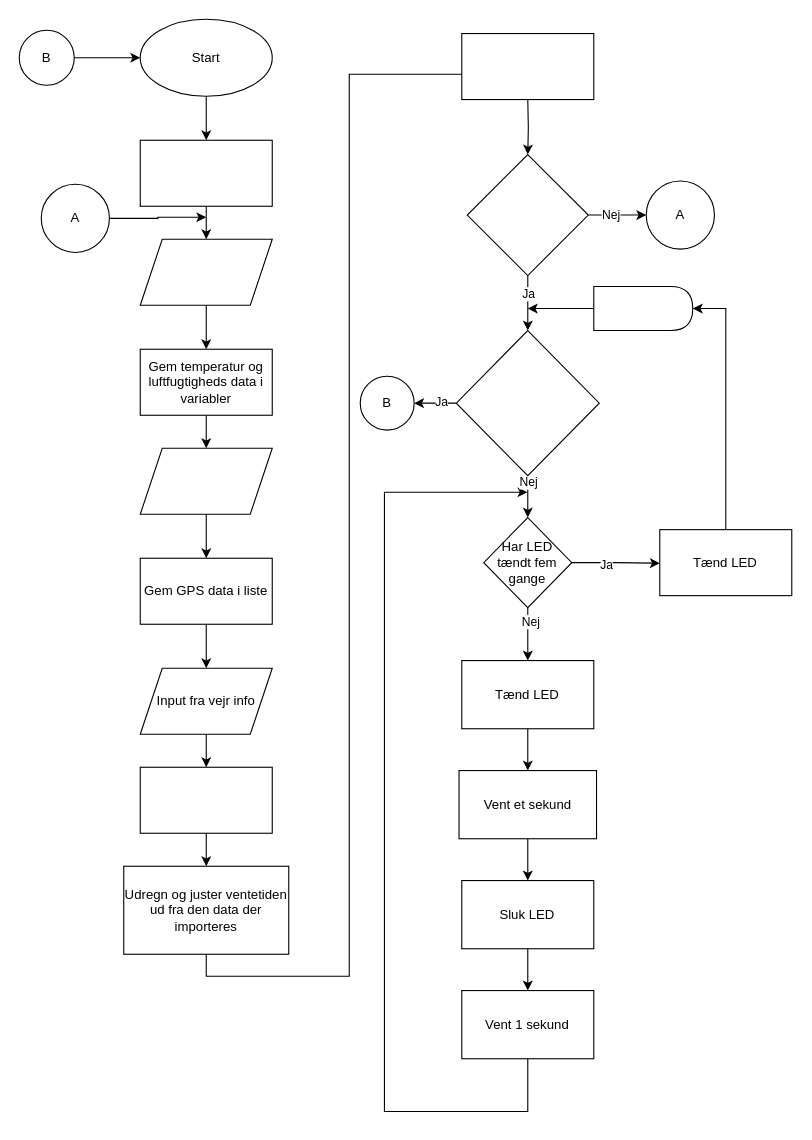
The diagram is 812 pixels wide and 1140 high, and some of its shapes have lost their labels. Here are the shapes that lost their labels. From the top down, the centre of each, then its label:
At [527,66]: "Send data til thingsboard".
At [205,172]: "Start timer til påmindelse ud fra et gennemsnit (~15min)".
At [527,214]: "Er det tid til at drikke væske?".
At [205,271]: "Input fra DHT11".
At [643,308]: "Vent 1 minut via non blocking".
At [527,402]: "Kontrollere om drikkedunk er taget".
At [205,480]: "Input fra GPS".
At [205,799]: "Gem vejr data i en variabel".
